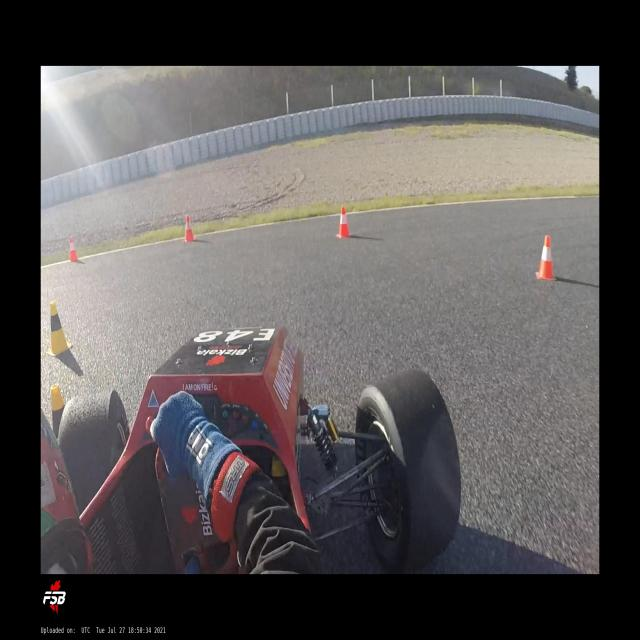orange_cone: (535, 234, 557, 282), (336, 206, 351, 239), (183, 214, 196, 242), (68, 236, 78, 262)
yellow_cone: (47, 299, 72, 357), (50, 384, 66, 440)
